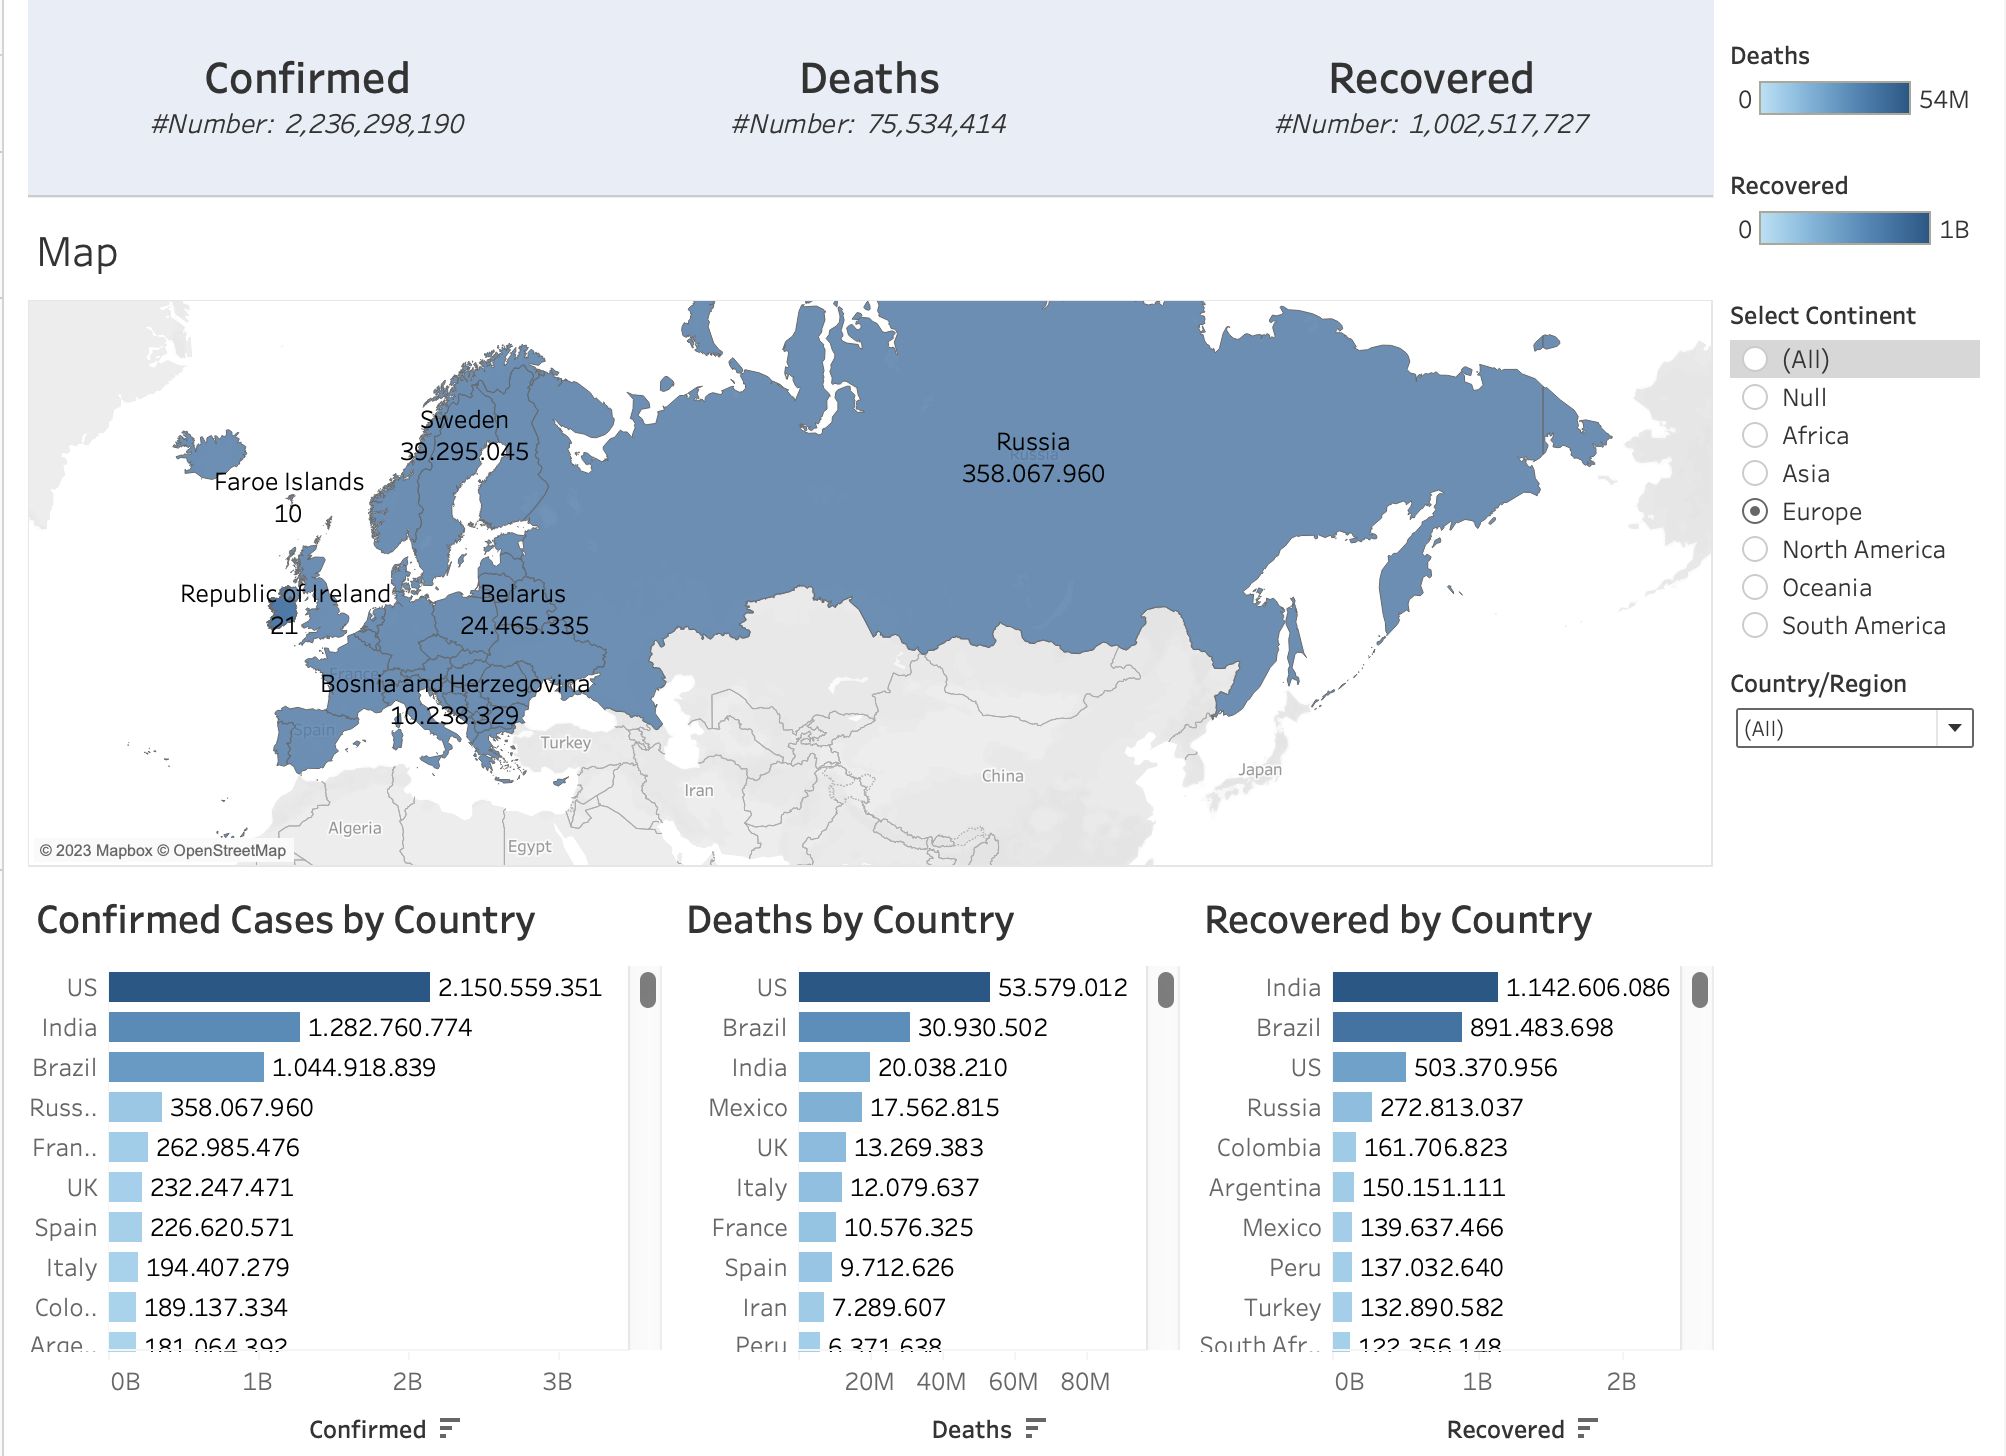

What the dashboard file says about the page in this screenshot:
{"tool":"tableau","page":{"name":"Covid19Dashboard","canvas":[1000,800],"ordinal":0},"visuals":[{"type":"worksheet","title":"summary","mark":"Automatic","box":[8,8,851,153]},{"type":"legend","title":"Cases","param":"[federated.14obain0fq8uok15m4v951wlqdwx].[sum:Confirmed:qk]","box":[859,8,133,65]},{"type":"legend","title":"Deaths","param":"[federated.14obain0fq8uok15m4v951wlqdwx].[sum:Deaths:qk]","box":[859,73,133,65]},{"type":"legend","title":"Recovered","param":"[federated.14obain0fq8uok15m4v951wlqdwx].[sum:Recovered:qk]","box":[859,138,133,65]},{"type":"worksheet","title":"Map","mark":"Multipolygon","box":[8,161,851,335]},{"type":"filter","title":"summary","param":"[federated.14obain0fq8uok15m4v951wlqdwx].[none:Continent:nk]","box":[859,203,133,184]},{"type":"filter","title":"Recovered","param":"[federated.14obain0fq8uok15m4v951wlqdwx].[none:Country/Region:nk]","box":[859,387,133,52]},{"type":"filter","title":"Map","param":"[federated.14obain0fq8uok15m4v951wlqdwx].[none:Country/Region:nk]","box":[859,439,133,353]},{"type":"worksheet","title":"Cases","mark":"Automatic","rows":["Country/Region"],"cols":["Confirmed"],"box":[8,496,325,296]},{"type":"worksheet","title":"Deaths","mark":"Automatic","rows":["Country/Region"],"cols":["Deaths"],"box":[333,496,259,296]},{"type":"worksheet","title":"Recovered","mark":"Automatic","rows":["Country/Region"],"cols":["Recovered"],"box":[592,496,267,296]}]}

Visuals, with their boxes on the page's 1000x800 design canvas (x1, y1, x2, y2). These are canvas units, not pixel positions in the 2006x1456 screenshot, which may show the page scaled, cropped or inside an application window:
"summary" worksheet: [x1=8, y1=8, x2=859, y2=161]
"Cases" legend: [x1=859, y1=8, x2=992, y2=73]
"Deaths" legend: [x1=859, y1=73, x2=992, y2=138]
"Recovered" legend: [x1=859, y1=138, x2=992, y2=203]
"Map" worksheet (Multipolygon marks): [x1=8, y1=161, x2=859, y2=496]
"summary" filter: [x1=859, y1=203, x2=992, y2=387]
"Recovered" filter: [x1=859, y1=387, x2=992, y2=439]
"Map" filter: [x1=859, y1=439, x2=992, y2=792]
"Cases" worksheet: [x1=8, y1=496, x2=333, y2=792]
"Deaths" worksheet: [x1=333, y1=496, x2=592, y2=792]
"Recovered" worksheet: [x1=592, y1=496, x2=859, y2=792]
